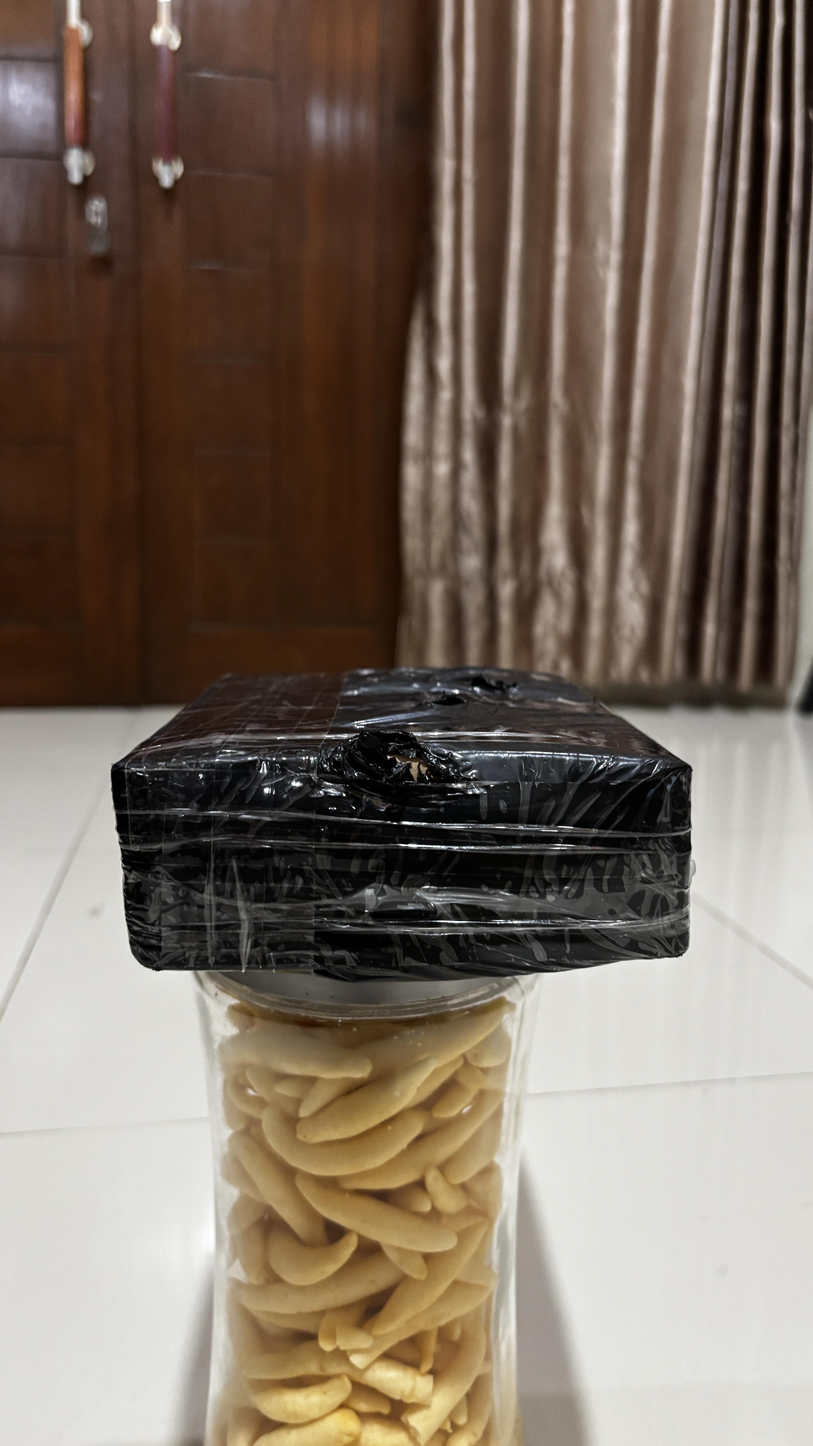damaged package: (325, 722, 468, 802), (463, 676, 518, 692), (426, 692, 465, 710)
undamaged: (91, 652, 710, 987)
